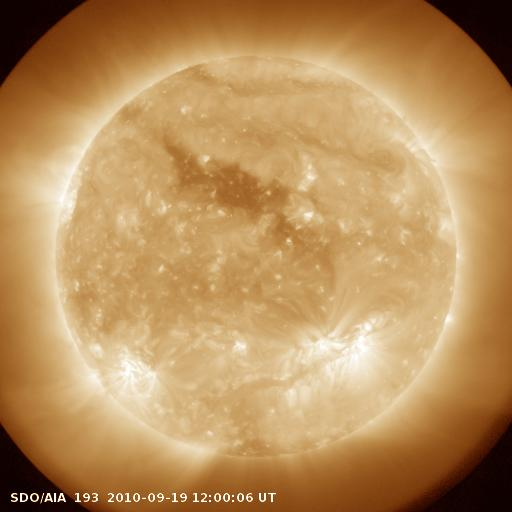coronal_hole: (158, 136, 302, 236)
